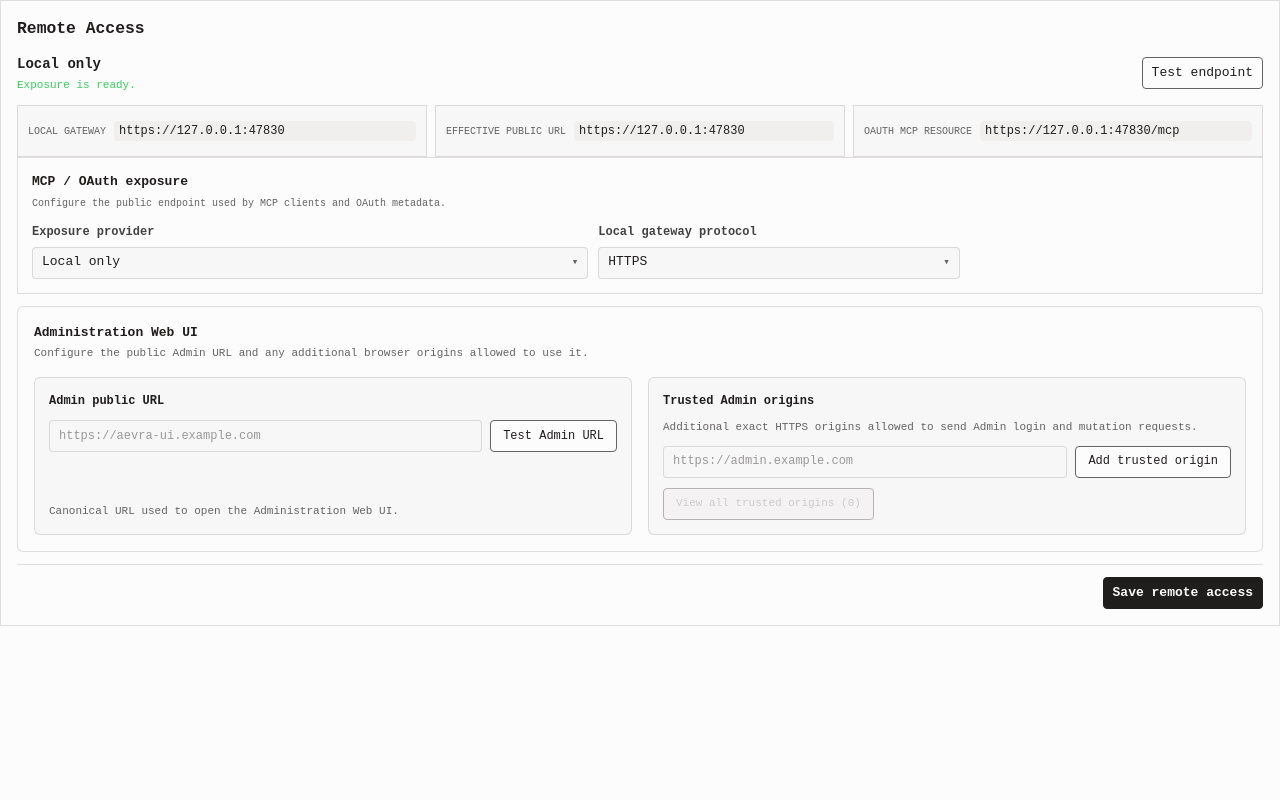
Test: failed saves surface the server error message instead of success copy
Click the button with aria-label "Exposure provider". click: {"x": 81, "y": 262}
box: [32,247,588,279]
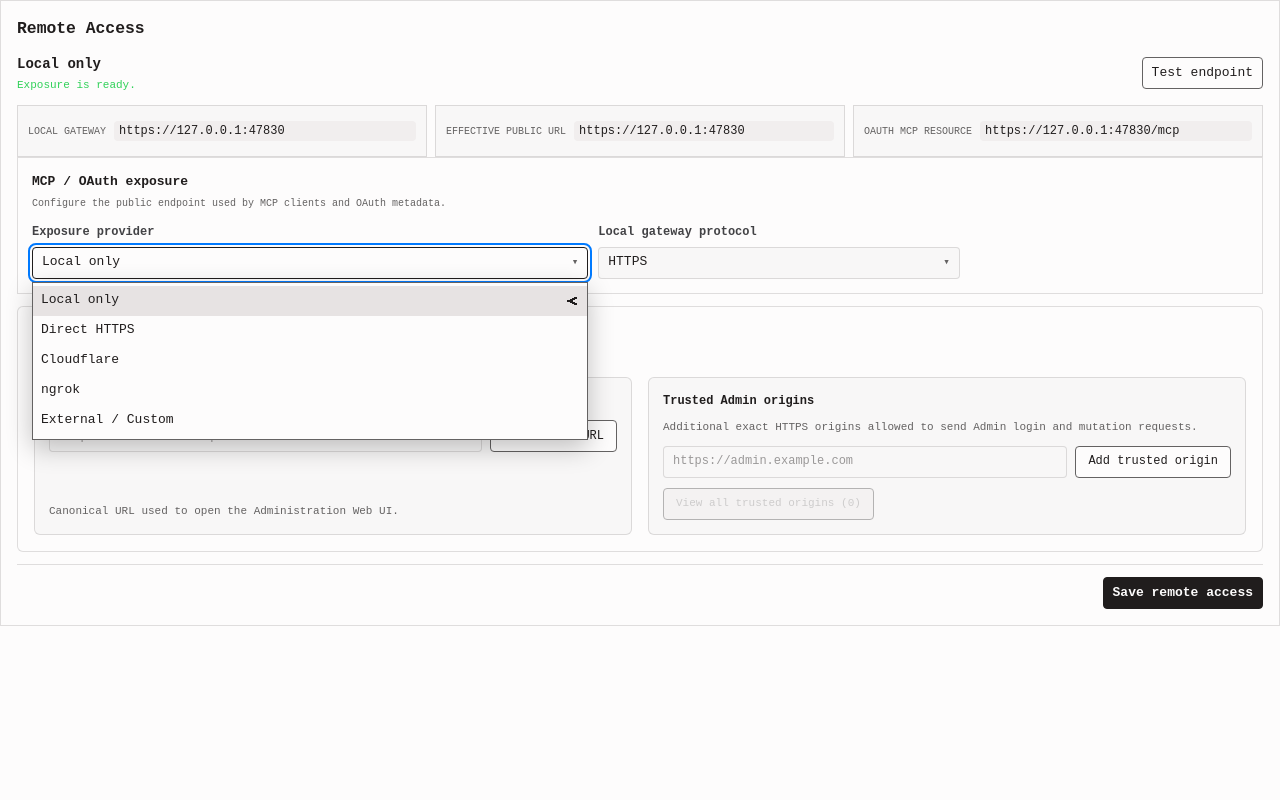
Click the option "Local only". click: {"x": 80, "y": 300}
box: [33,286,587,316]
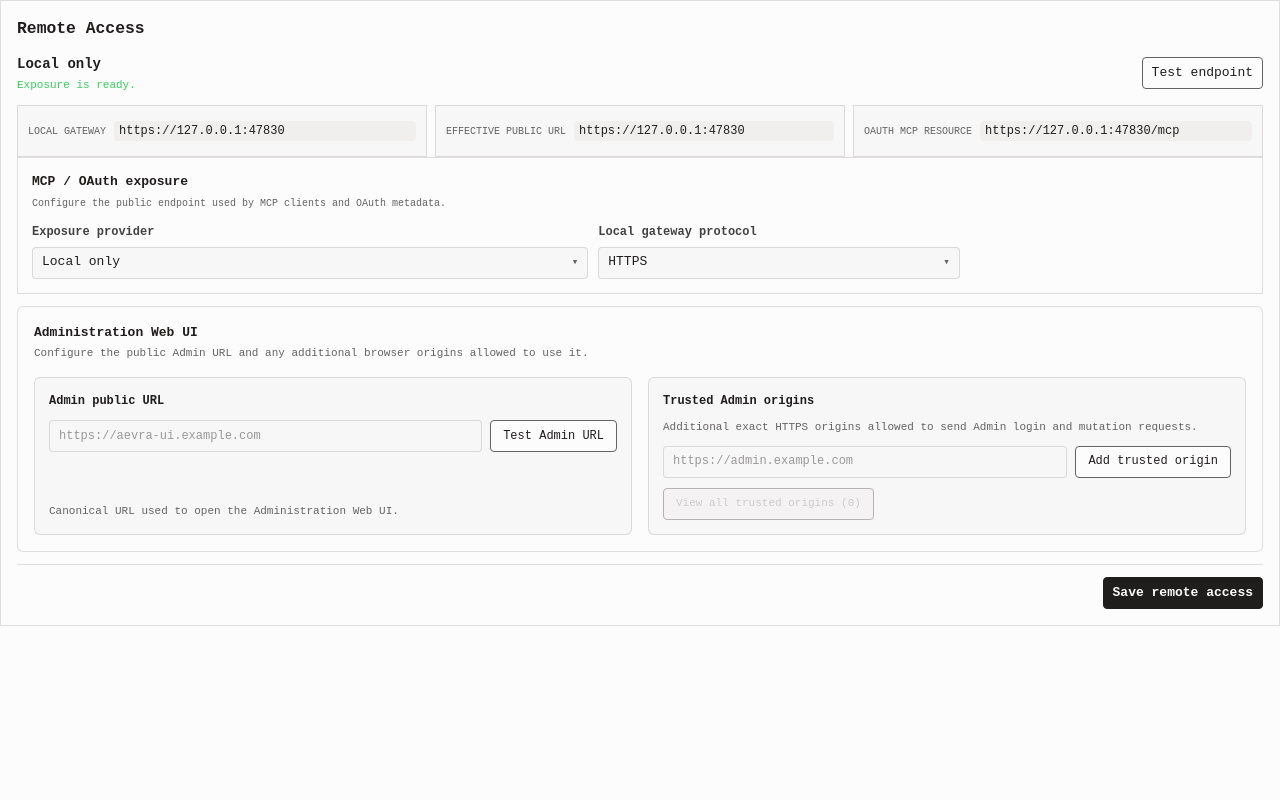
Click the button "Save remote access". click: {"x": 1183, "y": 593}
box: [1103,577,1263,609]
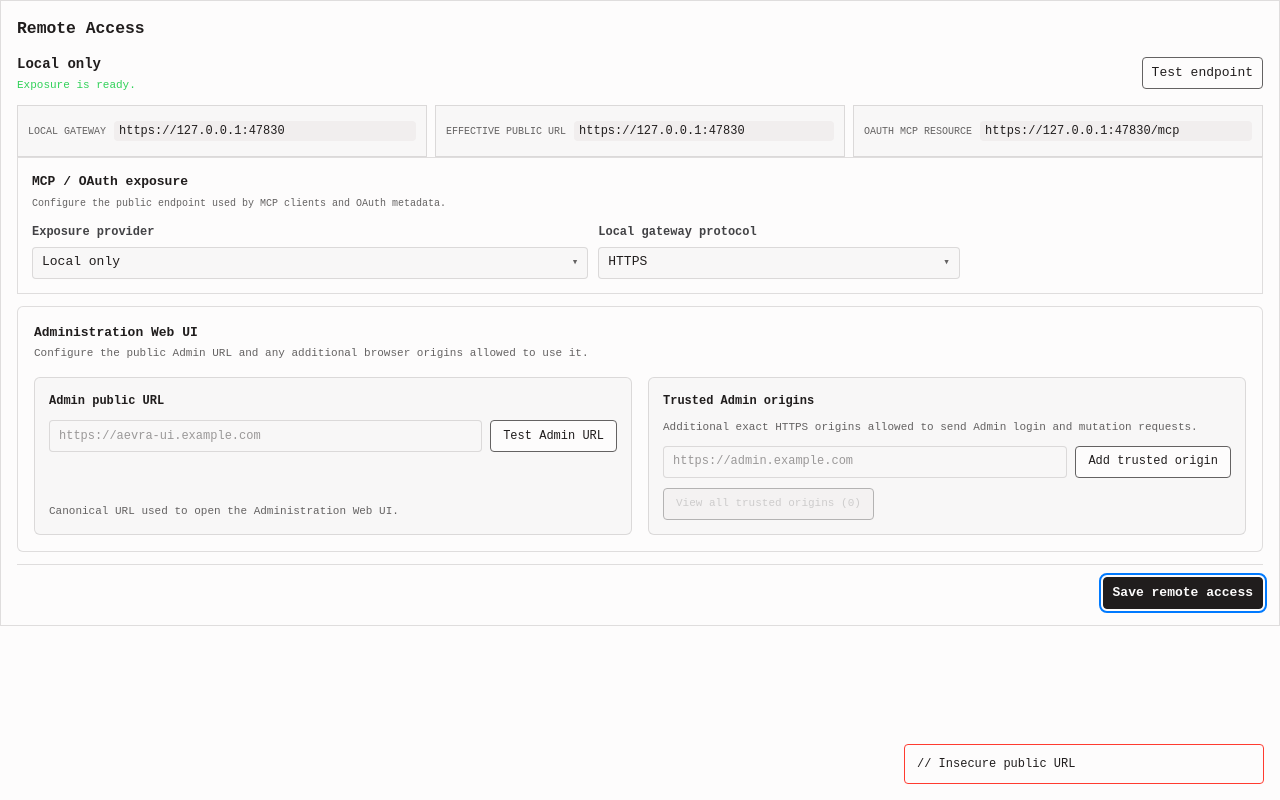
expect the text "Insecure public URL" is shown: met, box [904,744,1264,784]
